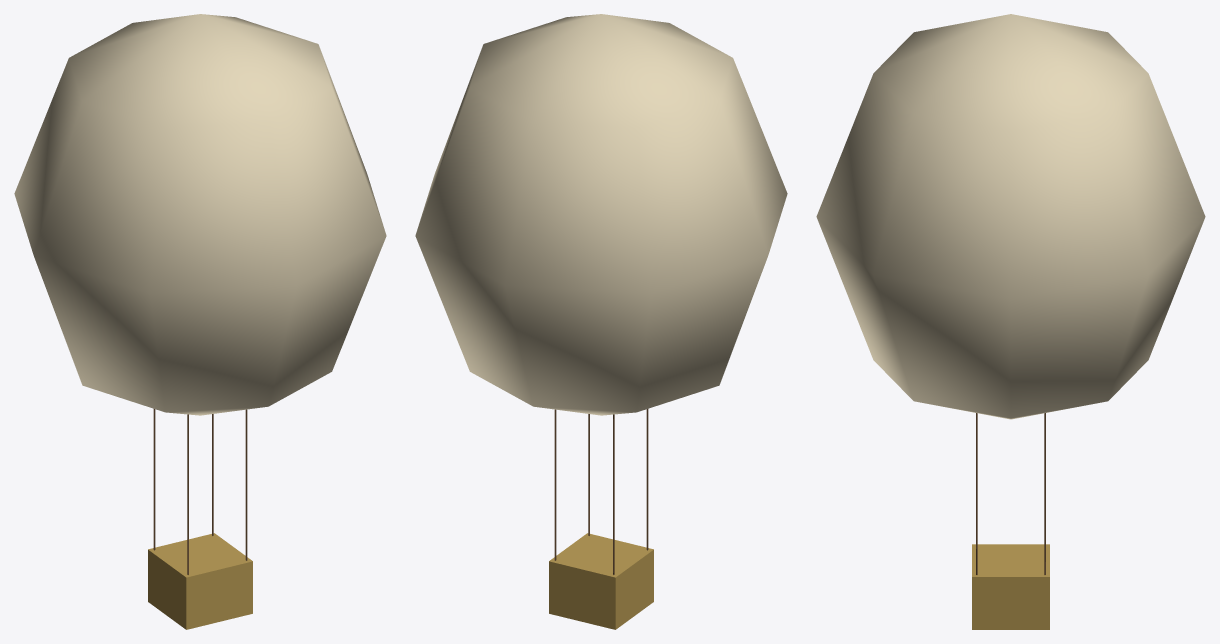
The model's file is veh_air_balloon_a04_lod1.glb.
3 renders of one model, left to right at view 1: azimuth 30°, elevation 25°; view 2: azimuth 150°, elevation 25°; view 3: azimuth 270°, elevation 25°, orthographic.
Parts seen in each view (by area): view 1: body; view 2: body; view 3: body.
Boxes of the visible parts, x1,y1,x2,y2 form: body: (14, 14, 386, 629); body: (415, 14, 787, 629); body: (816, 14, 1205, 629).
Size of the model in its own units: 8 by 13.6 by 8.
